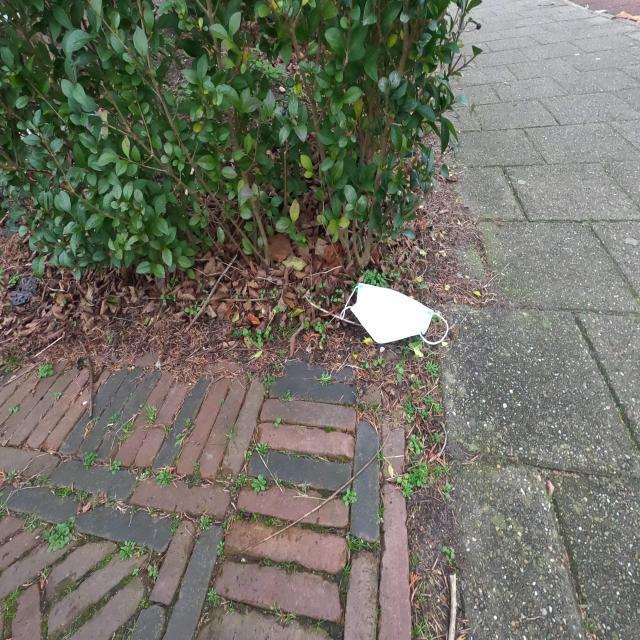Mask: (340, 280, 450, 346)
